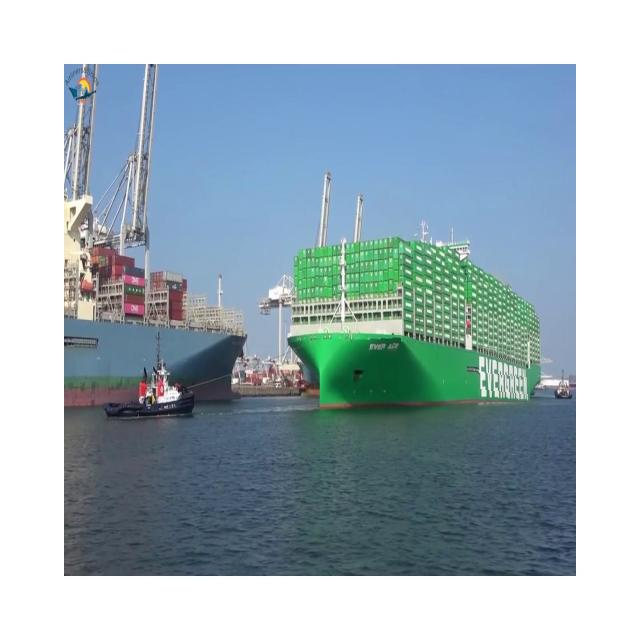OCR: (471, 346, 530, 402), (363, 335, 401, 355)
